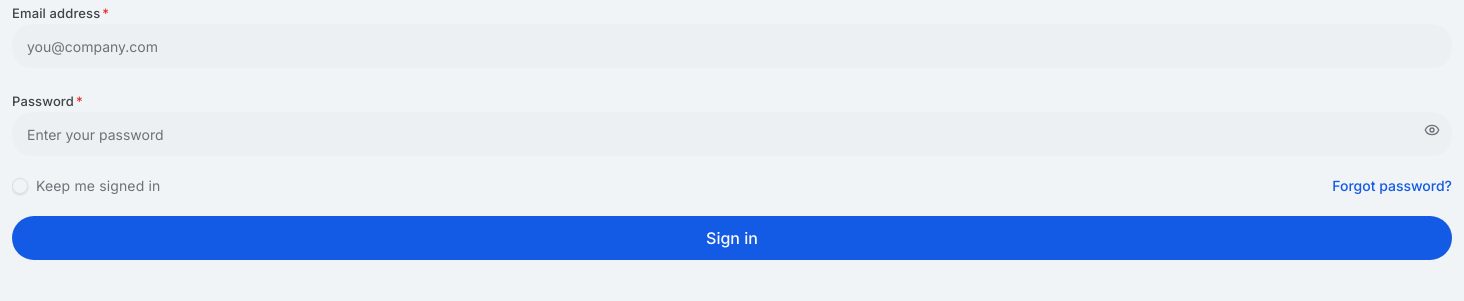
Scenario: LoginForm › requires a password
Type "admin@example.com" into the field labelled "Email address*" at point(732, 46), box [12,24,1452,68]
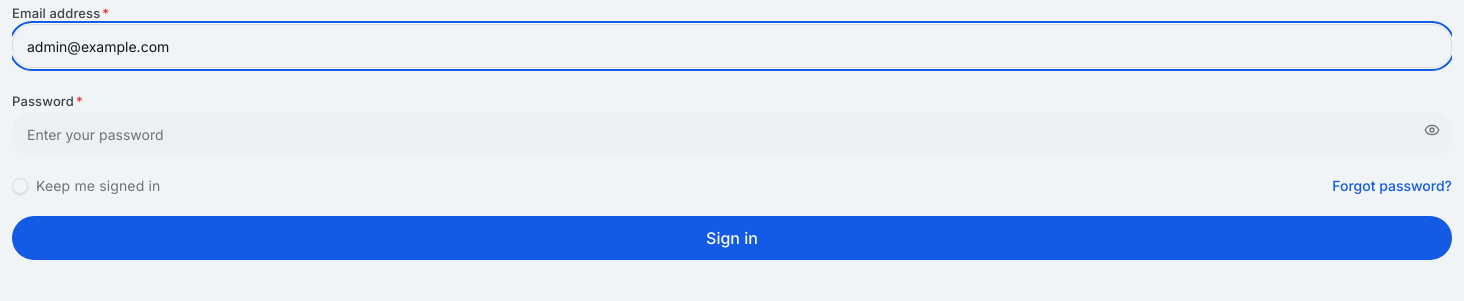
Click the button "Sign in" at point(732, 238), box [12,216,1452,260]
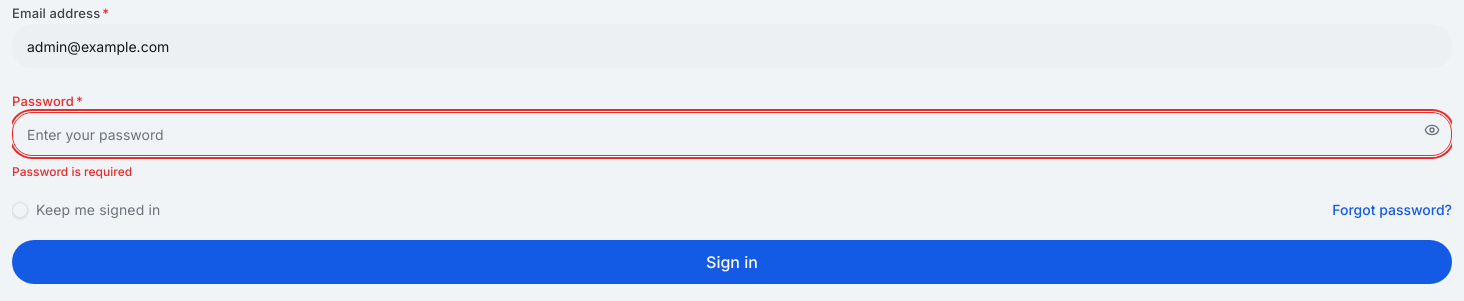
Check: the text "Password is required" is shown, box [12,164,132,179]
